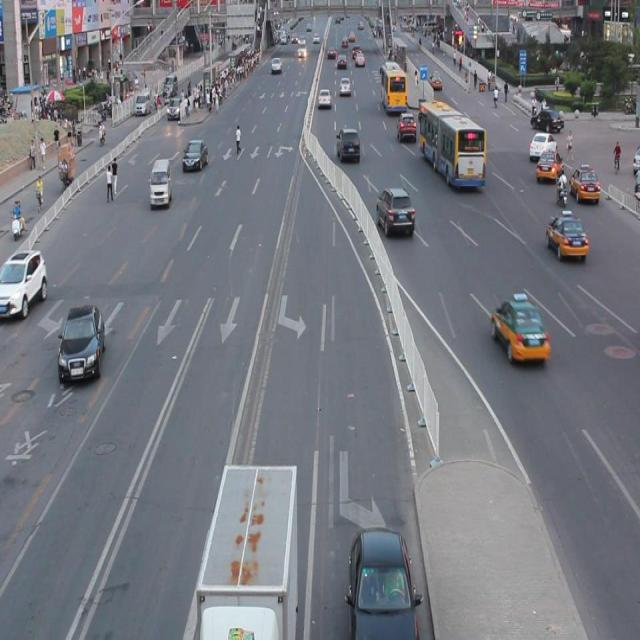bus: (197, 462, 298, 640)
car: (348, 525, 419, 640), (58, 302, 106, 382), (490, 298, 549, 363), (1, 249, 49, 319), (376, 185, 415, 237), (545, 213, 587, 260), (570, 167, 600, 205)
truck: (149, 158, 173, 208)
van: (420, 100, 485, 187)
